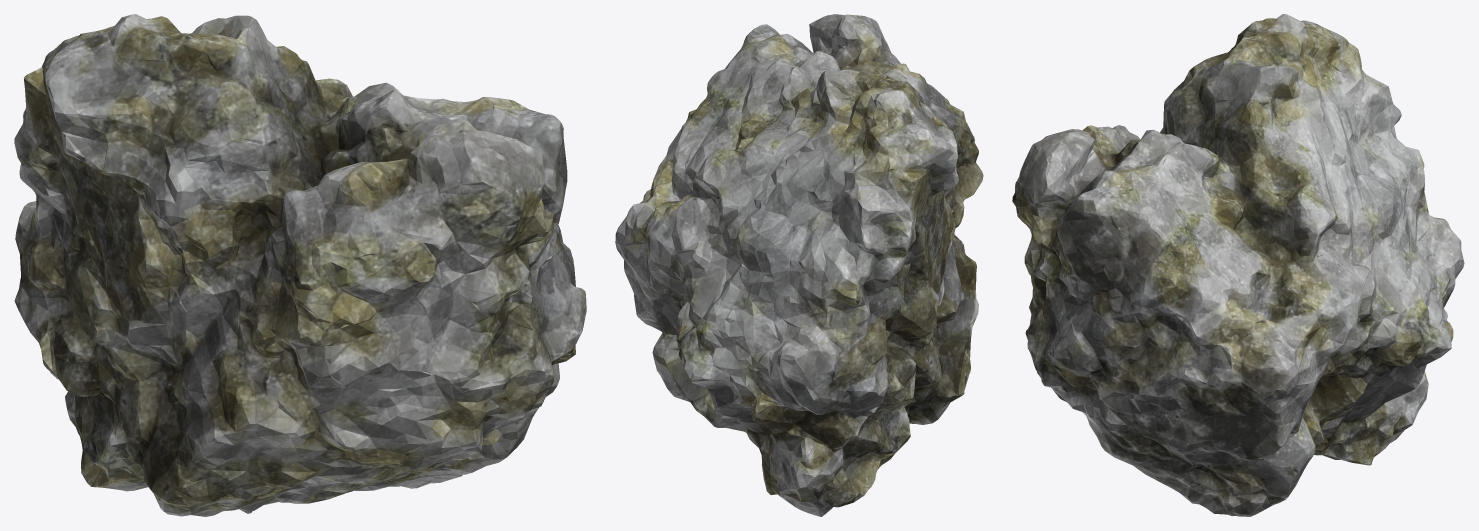
File: sample-76535.glb
3 renders of one model, left to right at view 1: azimuth 30°, elevation 25°; view 2: azimuth 150°, elevation 25°; view 3: azimuth 270°, elevation 25°, orthographic. The views are drawn at different scales.
Bounding box in the file's own units: 0.0188 × 0.0213 × 0.0209.
1 material, 1 textured.
